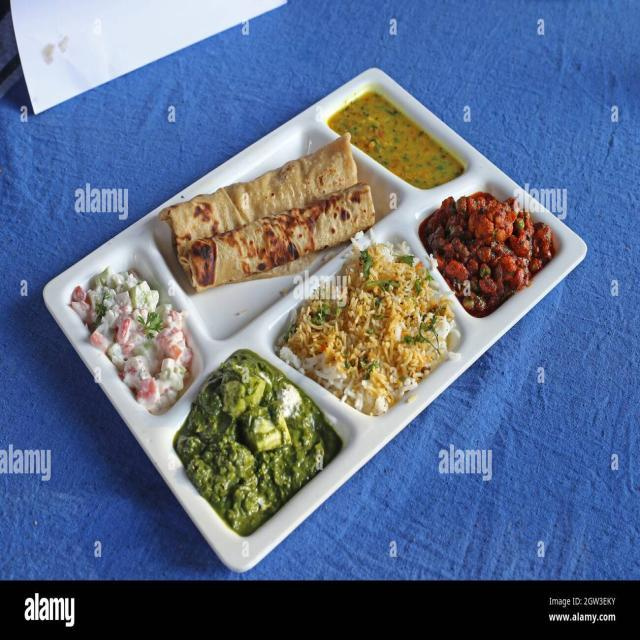dal: (342, 85, 460, 195)
papad: (179, 127, 381, 297)
roti: (171, 131, 379, 299), (296, 228, 458, 416)
veg-fry: (425, 181, 549, 311)
